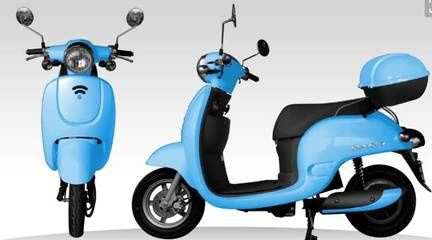non-vehicle: (128, 6, 428, 236), (16, 2, 145, 237)
